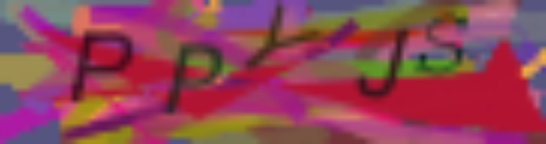J: (354, 27, 413, 99)
P: (67, 28, 136, 105), (160, 39, 225, 119)
S: (416, 9, 474, 80)
Y: (238, 1, 322, 69)
